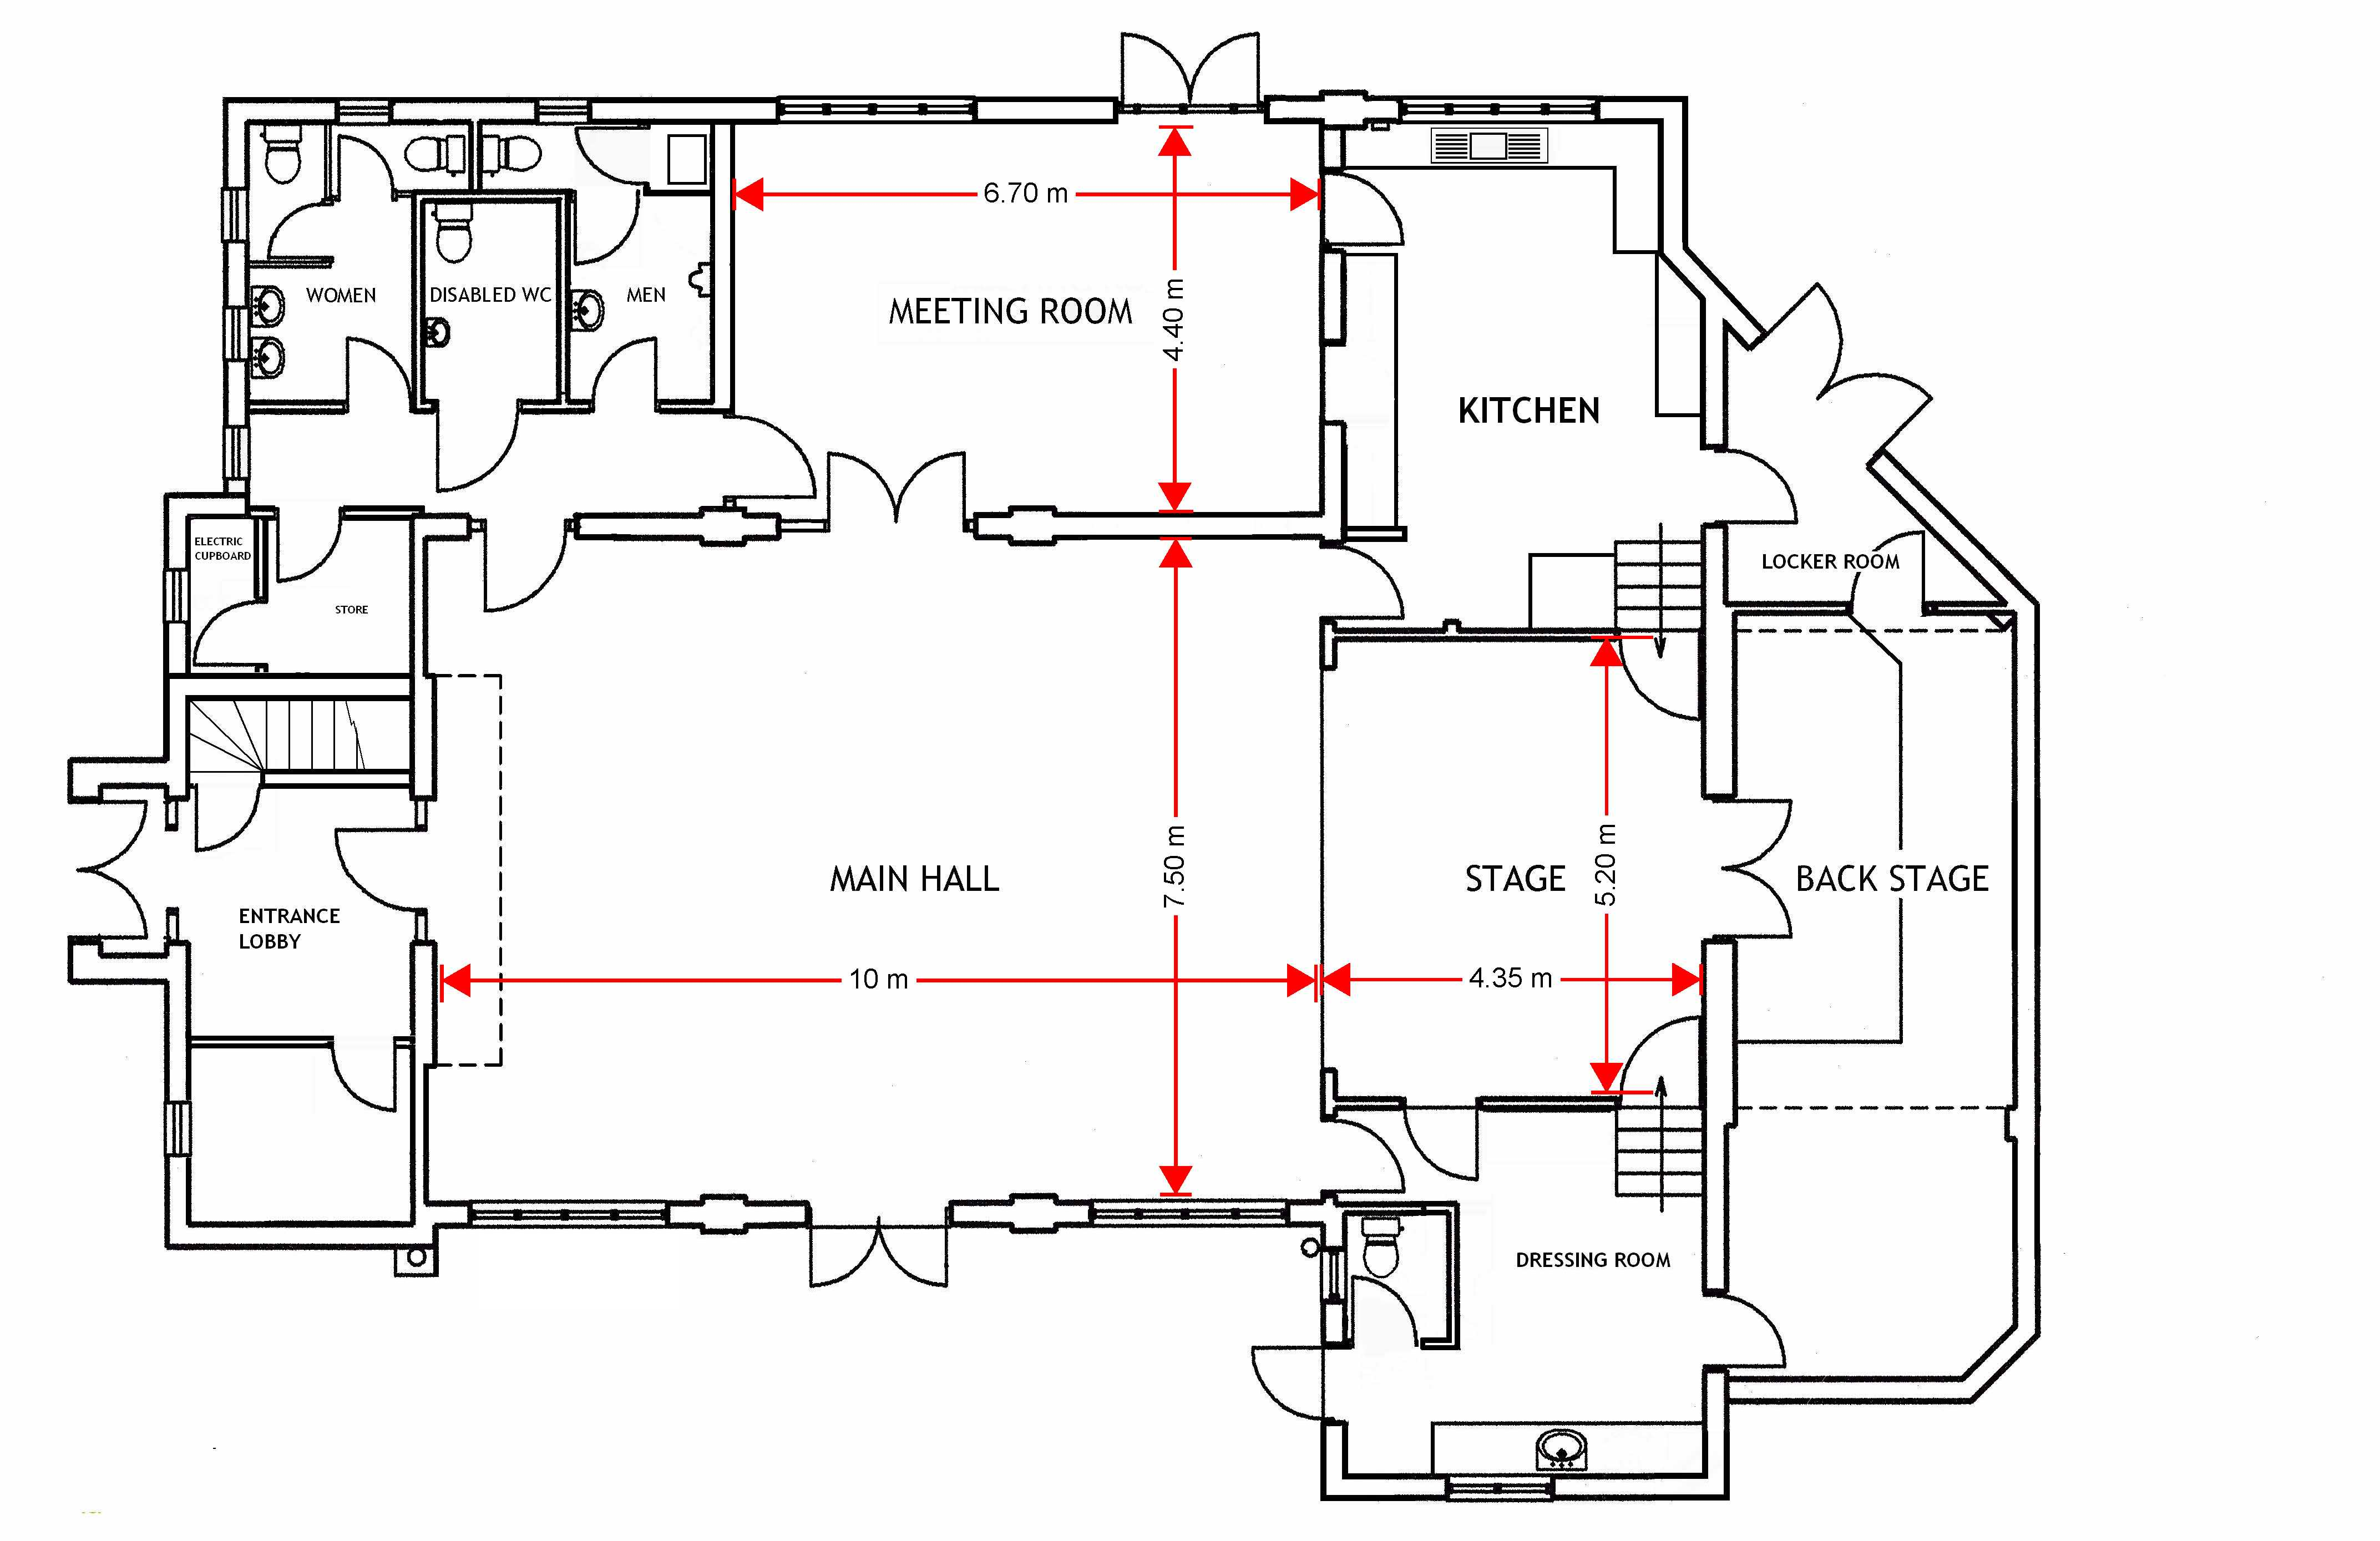room: (713, 99, 1334, 536), (1318, 1190, 1742, 1498), (1703, 318, 2049, 635), (165, 677, 441, 1060), (409, 189, 572, 413)
